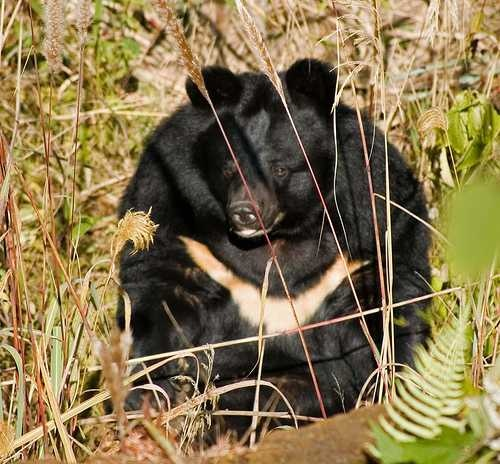bear: (196, 121, 324, 249), (202, 55, 330, 183)
